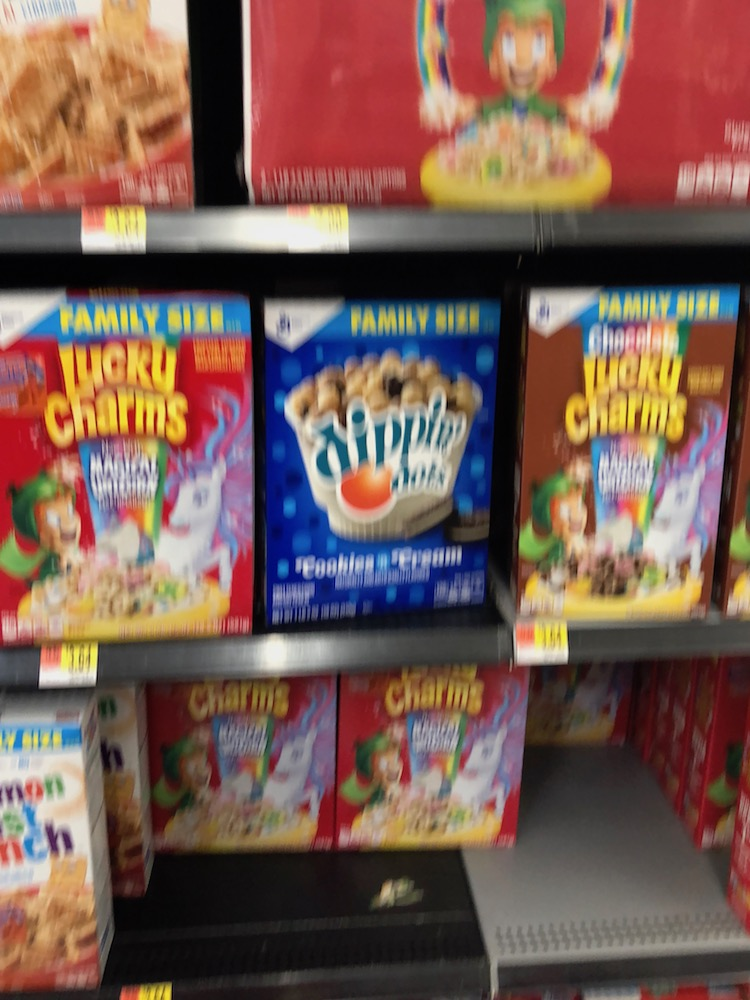Dippin Dots Cookies & Cream -568929378: (251, 297, 511, 617)
